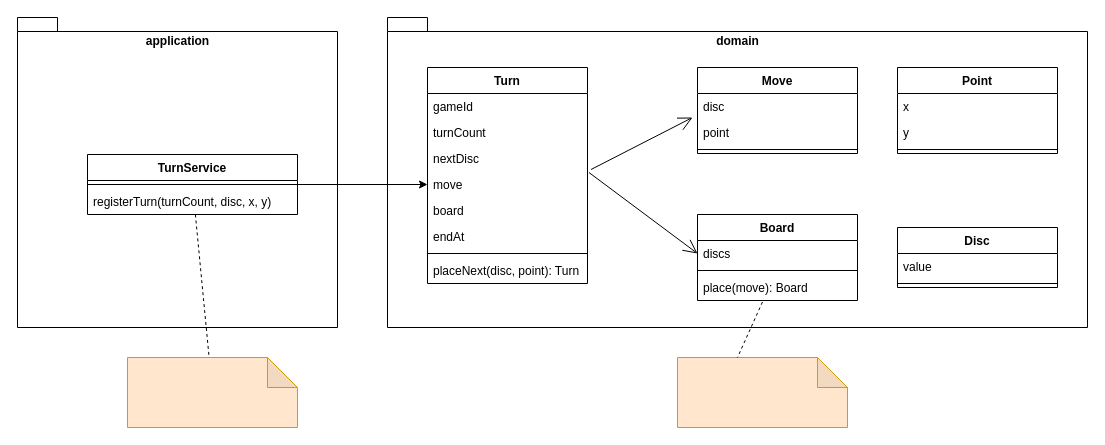
This 1105x445 diagram has some shape labels left out. The shapes that lost their labels are listed below. From the top down, each one's centre as x and y in pixels, then its label:
At pixel 212 392: "・1つ前のターンを取得 ・石を置く ・ターンを保存する".
At pixel 762 392: "placeの内部では ・盤面に置けるかチェック ・石を置く ・ひっくり返す".
